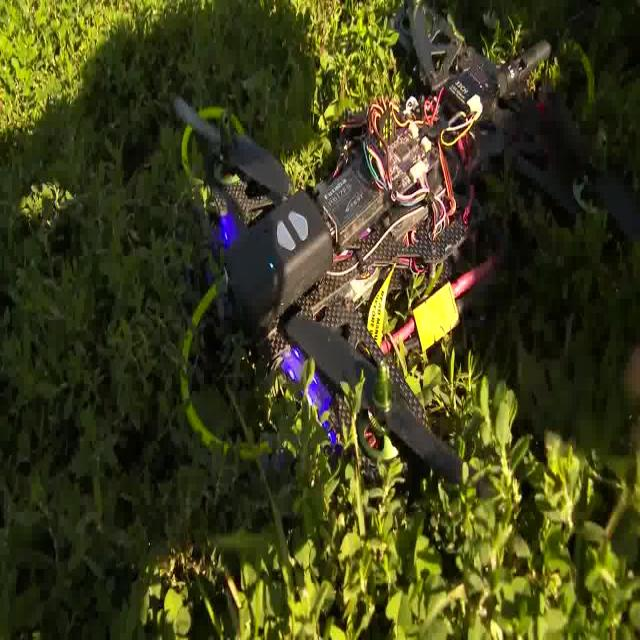Drone_FW: (175, 0, 630, 500)
